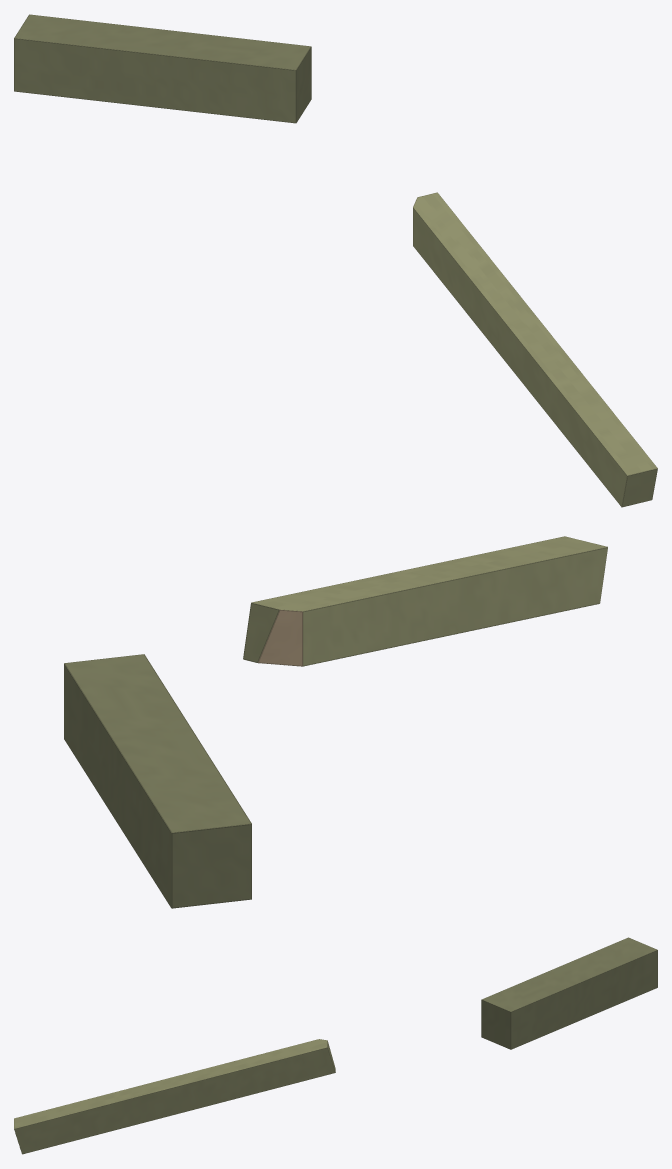
Rendered from hip-into-ridge.glb.
3 renders of one model, top to bottom at view 1: azimuth 30°, elevation 25°; view 2: azimuth 150°, elevation 25°; view 3: azimuth 270°, elevation 25°, orthographic. The views are drawn at different scales.
Parts seen in each view (by area): view 1: part-a, part-b; view 2: part-a, part-b; view 3: part-b, part-a.
Part boxes in pixels (left/top/right/bottom): part-a: left=14, top=14, right=311, bottom=123; part-b: left=413, top=192, right=657, bottom=507; part-a: left=64, top=654, right=251, bottom=908; part-b: left=243, top=536, right=607, bottom=666; part-b: left=14, top=1039, right=335, bottom=1154; part-a: left=481, top=937, right=657, bottom=1049.
Bounding box in the file's own units: 0.637 × 0.5712 × 2.32.
